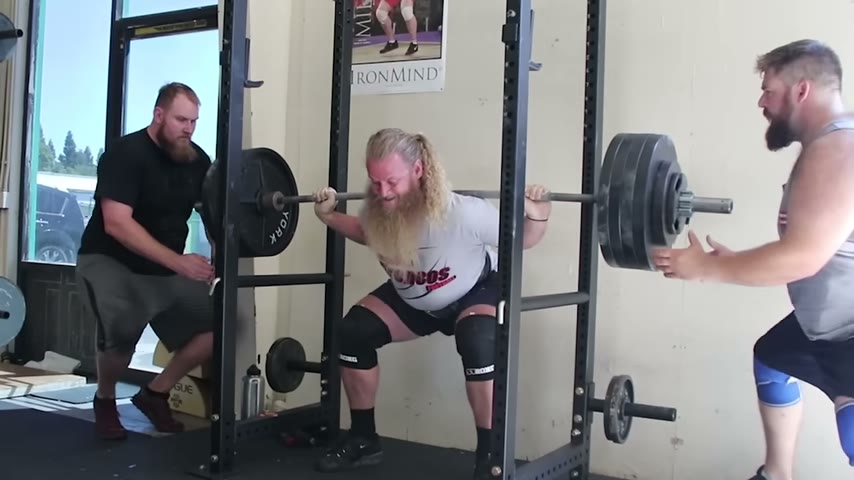barbell_plate_side: (602, 128, 747, 351), (649, 126, 746, 336)
